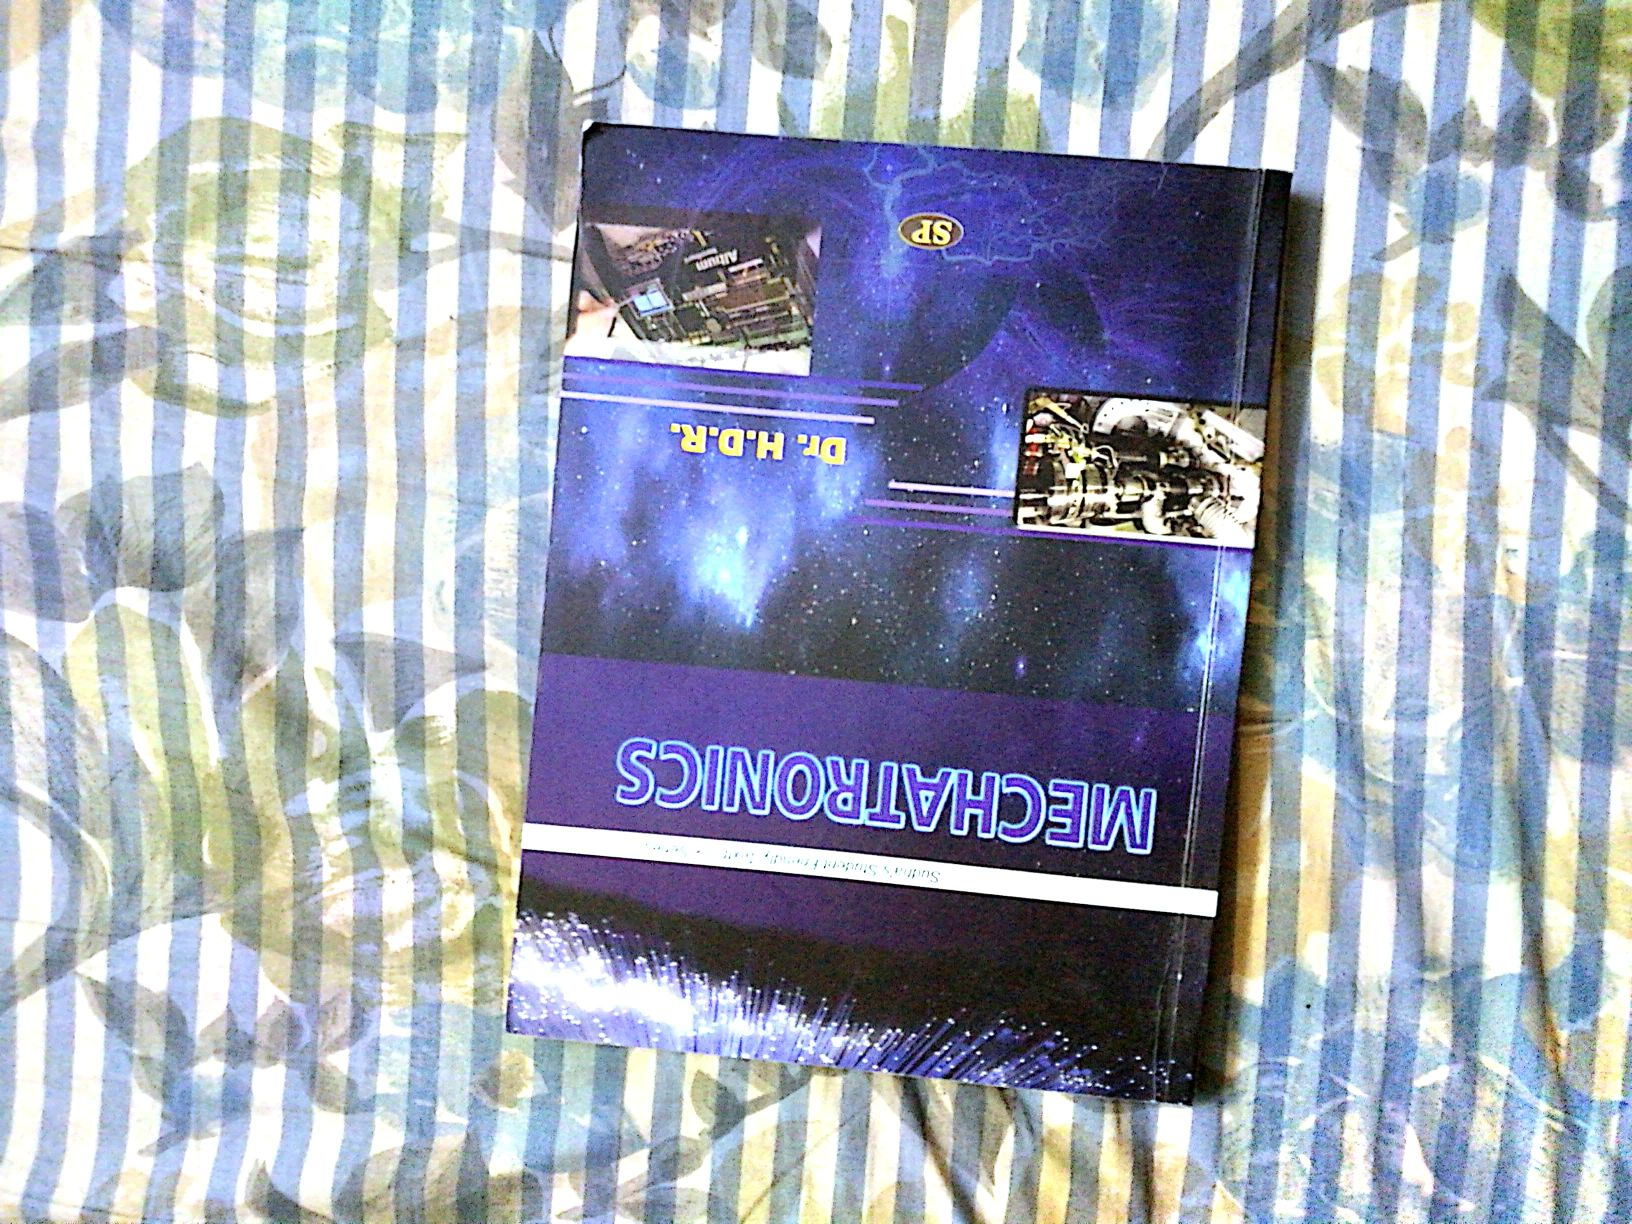mechatronics: (517, 109, 1243, 1110)
